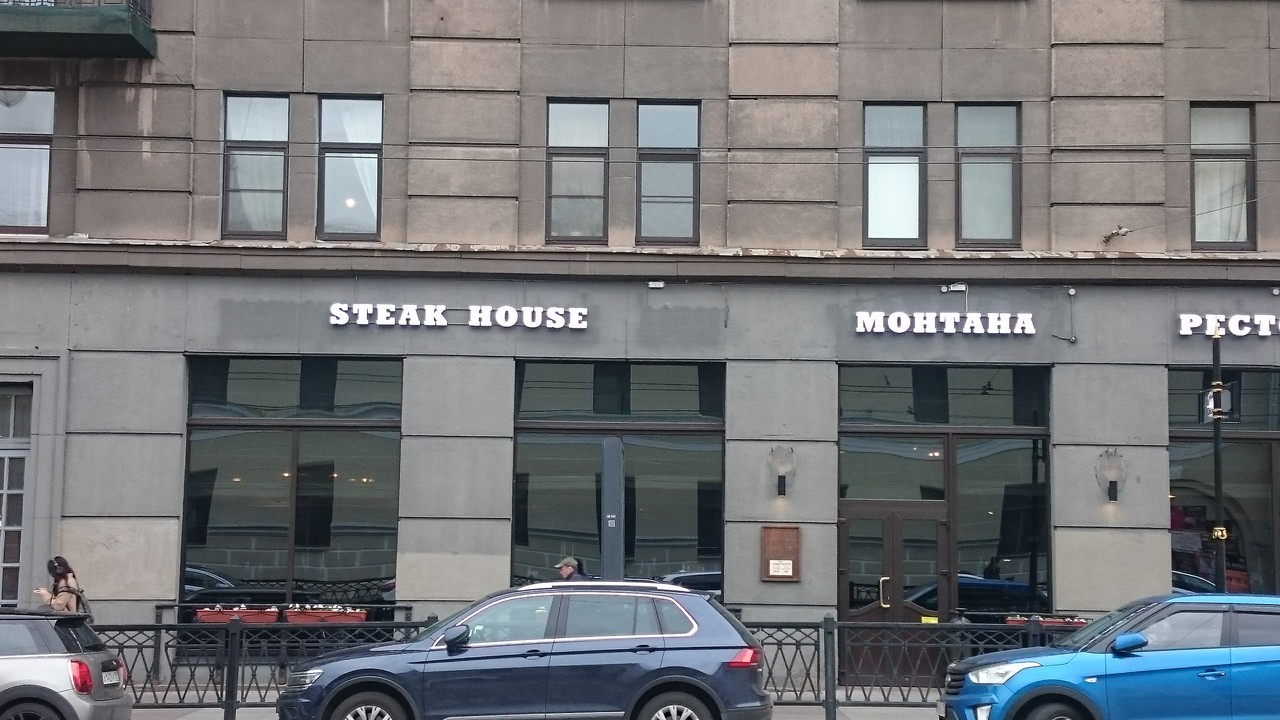door: (839, 506, 950, 690)
signboard: (329, 302, 595, 331), (851, 312, 1036, 336), (1176, 311, 1280, 342)
window: (173, 357, 407, 663), (839, 363, 1051, 622), (517, 358, 721, 585), (1167, 361, 1278, 598), (222, 92, 290, 240), (634, 102, 702, 246), (1191, 104, 1258, 249), (863, 102, 926, 249), (544, 99, 607, 242), (957, 105, 1019, 250), (319, 98, 382, 240)
